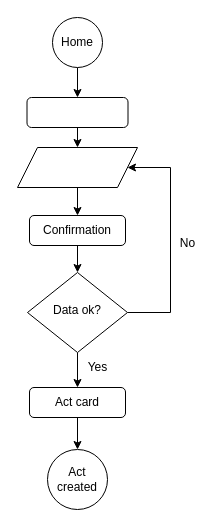
Image size: 220x527. Some labels were removed from this diagram. The box of each missing label's shape, as (x1, y1, x2, y2) in pixels:
Create New Act: (26, 96, 128, 128)
Fill Inputs: (16, 146, 138, 188)
